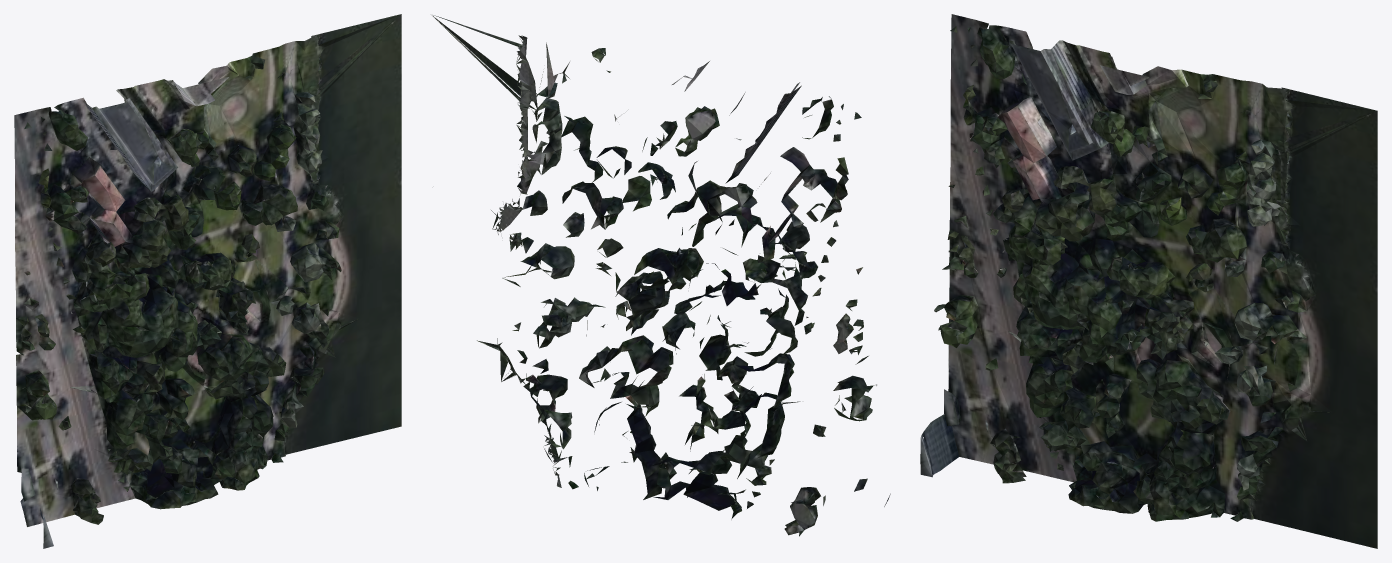
File: Tile_+031_+025_L16_000.glb
The picture shows the model from 3 angles, left to right: view 1: azimuth 30°, elevation 25°; view 2: azimuth 150°, elevation 25°; view 3: azimuth 330°, elevation 25°; orthographic projection. The views are drawn at different scales.
Size of the model in its own units: 250 by 250 by 39.79.
Materials: 1 (1 with a texture image).
